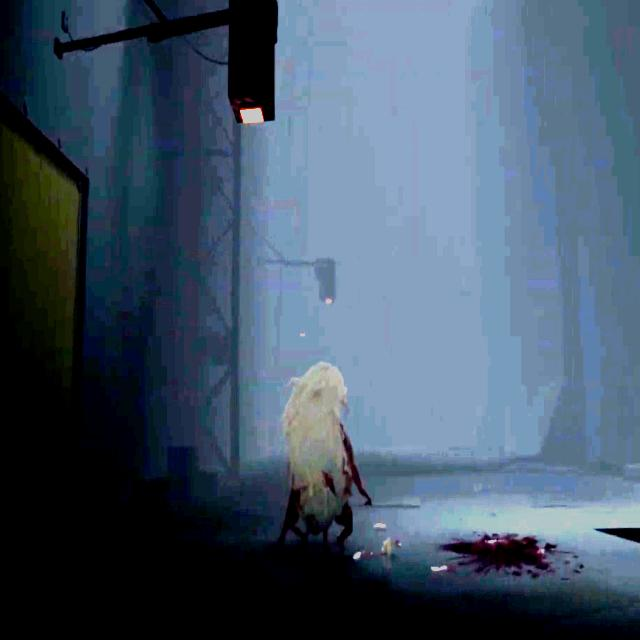blob: (272, 365, 370, 551)
interactible: (229, 0, 277, 126), (314, 253, 337, 304)
structure: (181, 0, 244, 485)
